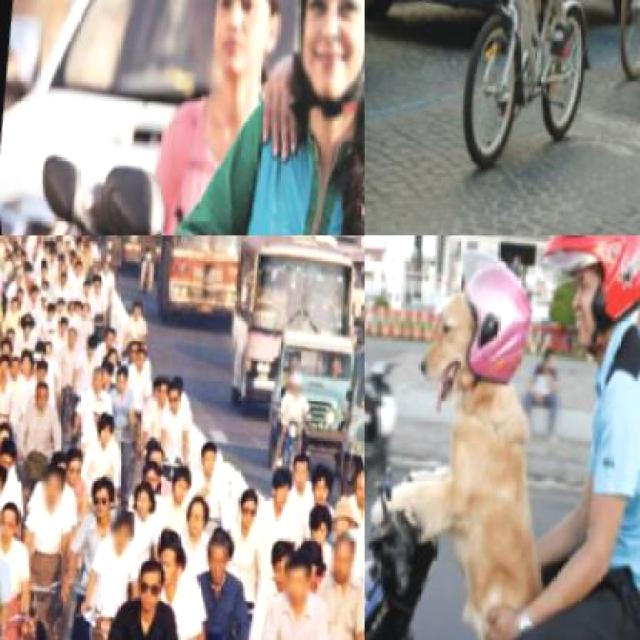With Helmet: (241, 0, 363, 152), (524, 235, 638, 368), (280, 365, 308, 401)
Without Helmet: (117, 552, 166, 616), (266, 551, 309, 618), (316, 533, 358, 595), (28, 466, 63, 517), (98, 512, 133, 558)
